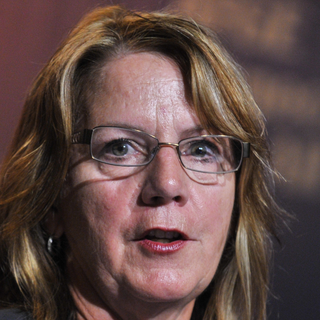eye: (96, 136, 145, 162), (180, 139, 219, 164)
